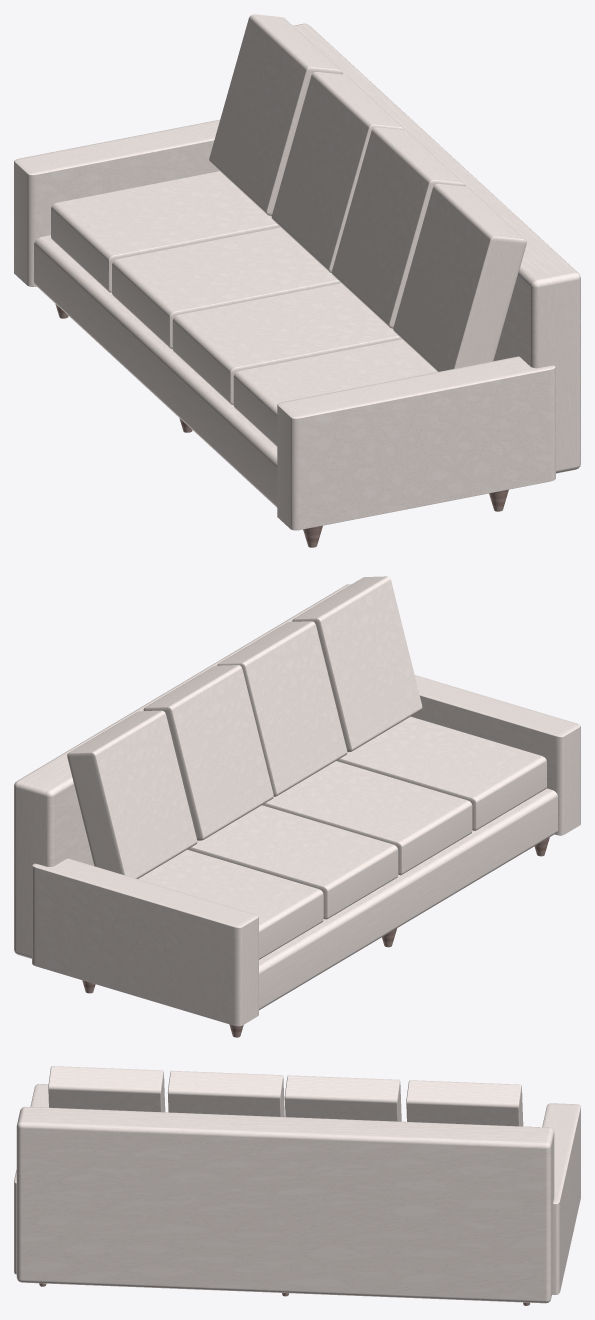
The model's file is sofa.fbx.
3 renders of one model, top to bottom at view 1: azimuth 30°, elevation 25°; view 2: azimuth 150°, elevation 25°; view 3: azimuth 270°, elevation 25°, orthographic. The views are drawn at different scales.
Visible parts, largest first — view 1: sofa_text:polySurface40; view 2: sofa_text:polySurface40; view 3: sofa_text:polySurface40.
Boxes of the visible parts, x1,y1,x2,y2 form: sofa_text:polySurface40: (14, 14, 580, 547); sofa_text:polySurface40: (14, 576, 580, 1037); sofa_text:polySurface40: (14, 1066, 580, 1305).
Size of the model in its own units: 2.35 by 1.83 by 4.28.
Materials: 2 (2 with a texture image).
